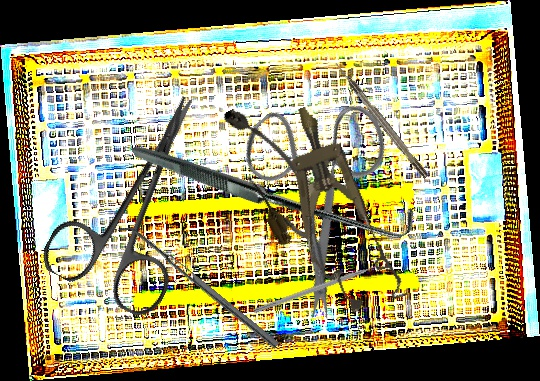Cannula: (214, 94, 328, 251)
Chopper: (253, 260, 390, 321)
Hook Surgical: (130, 39, 422, 335), (332, 60, 430, 180)
Iris Scissors: (192, 62, 456, 328), (36, 71, 249, 323)
Spatula Surgical: (117, 219, 280, 355)
Speculum: (262, 94, 411, 321)
